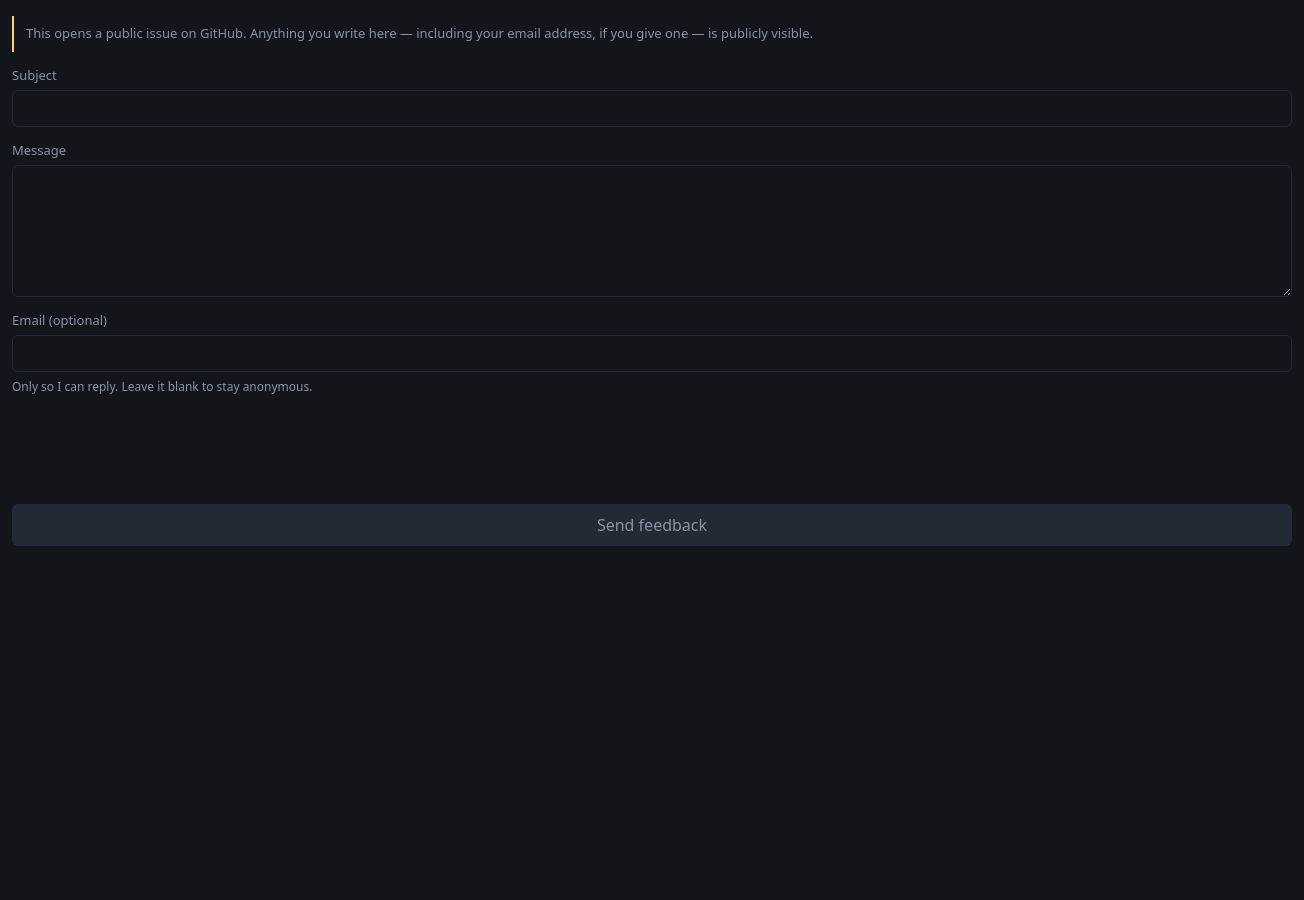
Scenario: FeedbackForm › shows a 422 as inline field errors and resets the single-use token
The width and height of the screenshot is (1304, 900).
In the field labelled "Subject": (652, 108) x1=12 y1=90 x2=1292 y2=126, type "Cadence panel is blank"
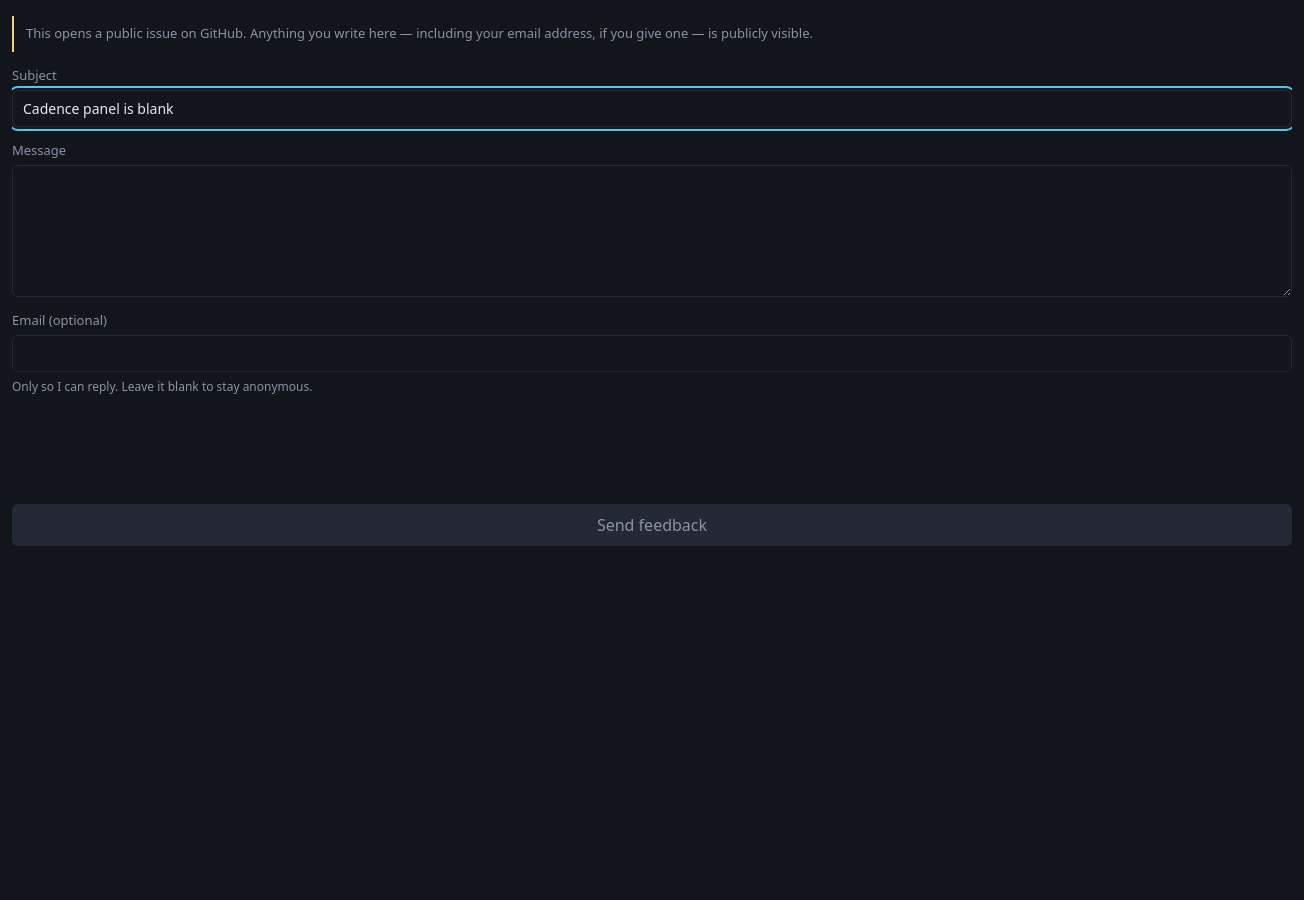
In the text box labelled "Message": (652, 230) x1=12 y1=164 x2=1292 y2=296, type "The cadence chart renders nothing."
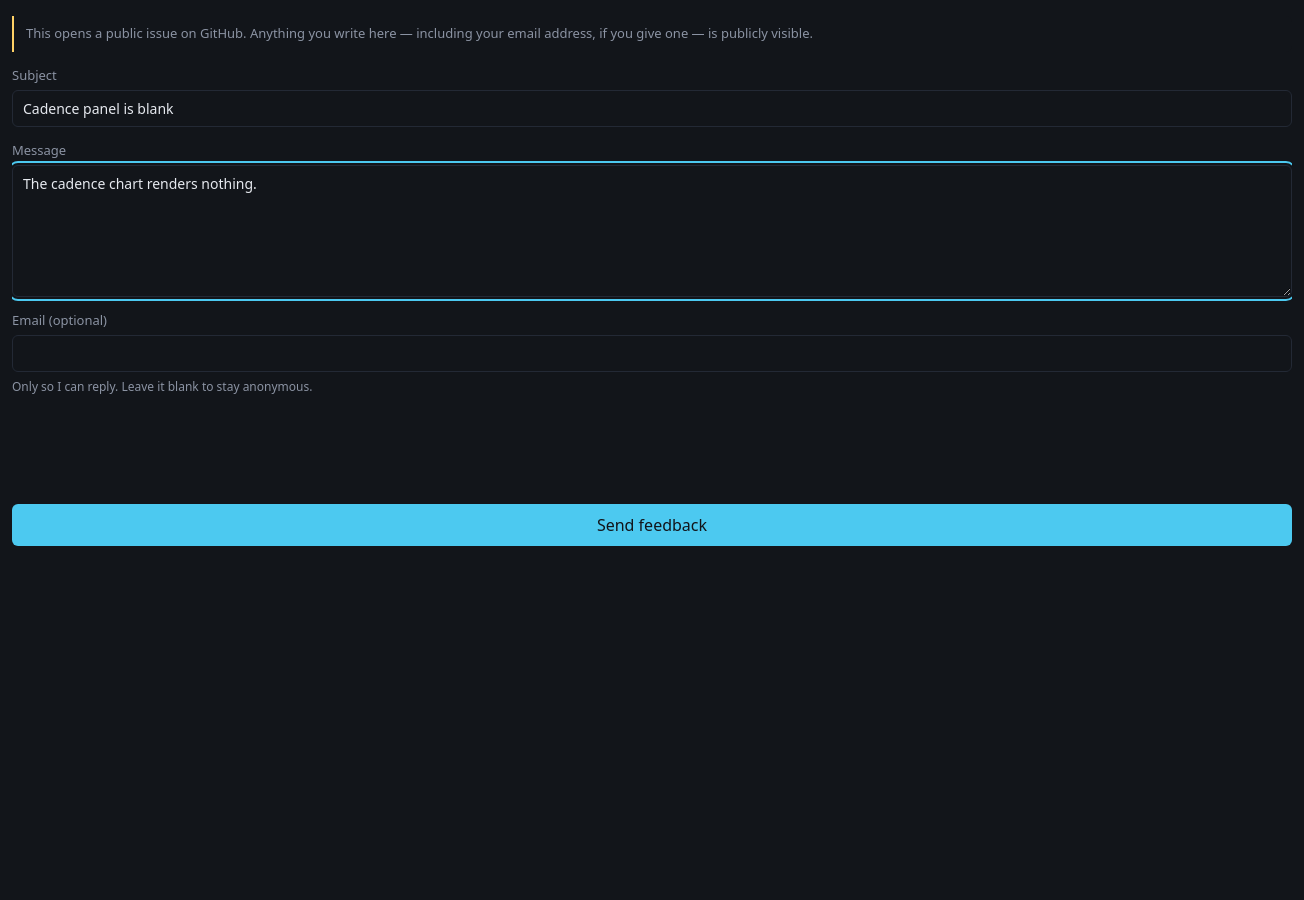
Click the button "Send feedback": (652, 524) x1=12 y1=504 x2=1292 y2=546
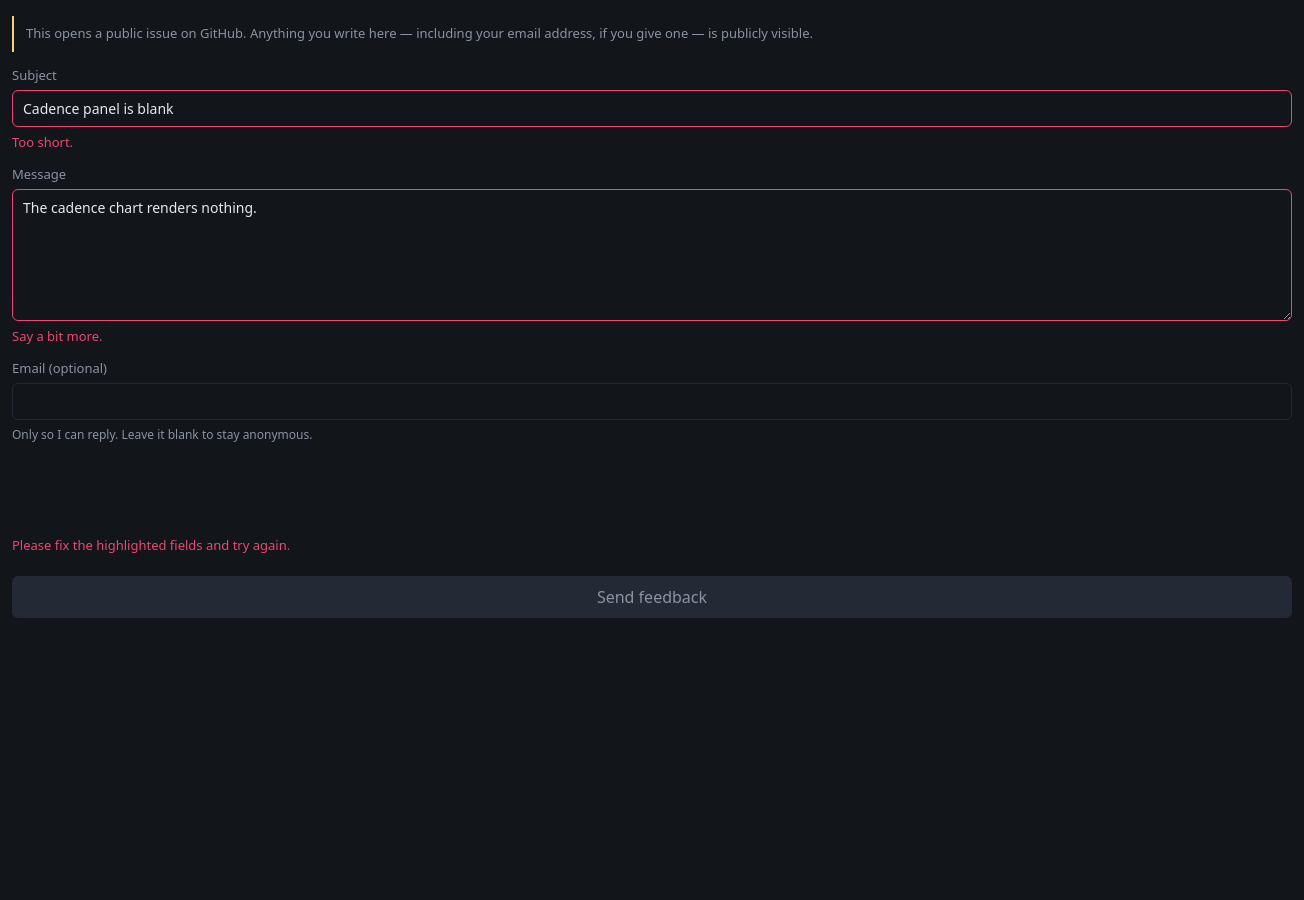
Result: the text "Too short." is shown at x1=12 y1=132 x2=73 y2=150
Result: the text "Say a bit more." is shown at x1=12 y1=326 x2=102 y2=344
